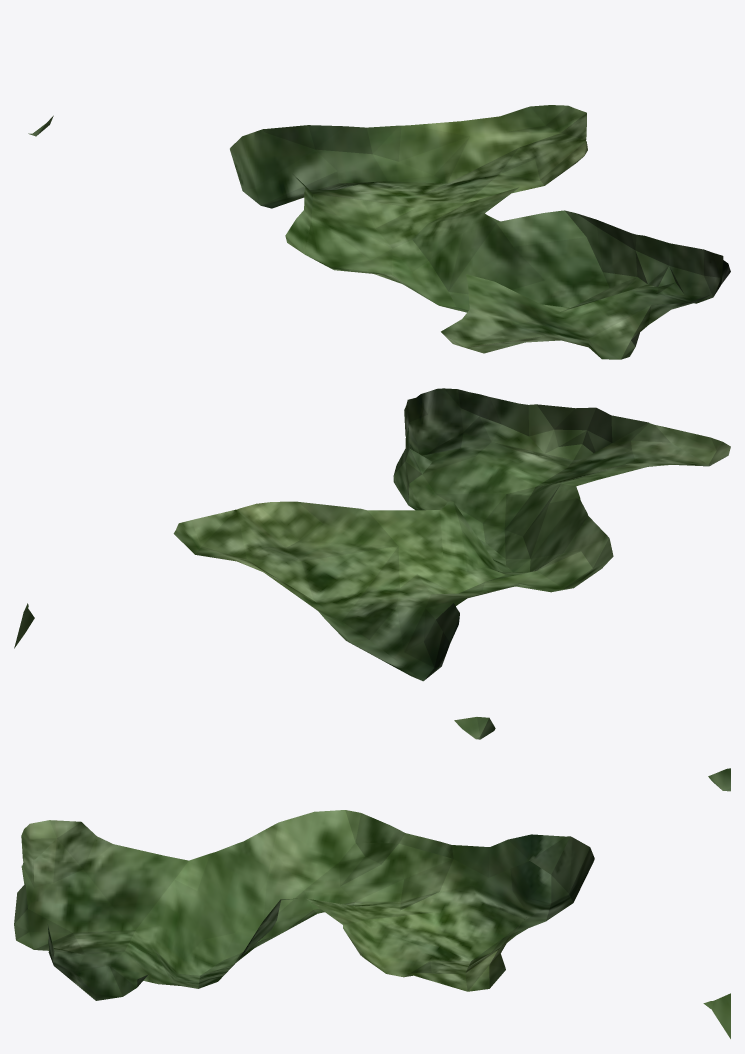
The picture shows the model from 3 angles, top to bottom: view 1: azimuth 30°, elevation 25°; view 2: azimuth 150°, elevation 25°; view 3: azimuth 270°, elevation 25°; orthographic projection.
Size of the model in its own units: 2.08 by 0.3046 by 2.68.
Materials: 1 (1 with a texture image).
